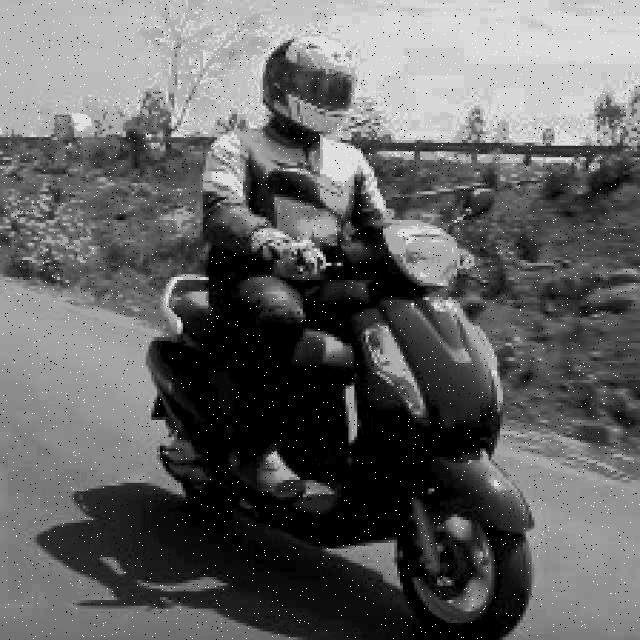Bike: (161, 208, 547, 634)
